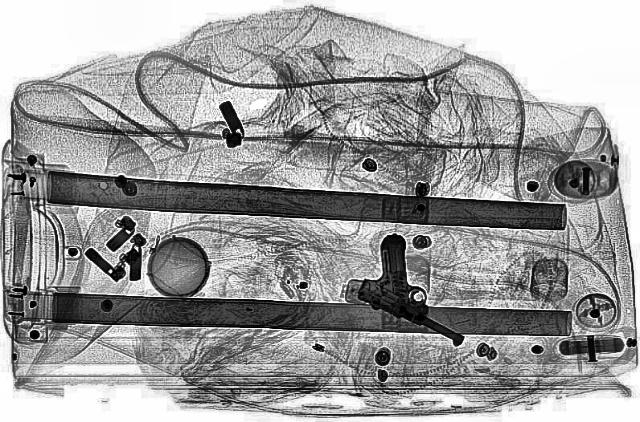Gun: (320, 230, 524, 350)
